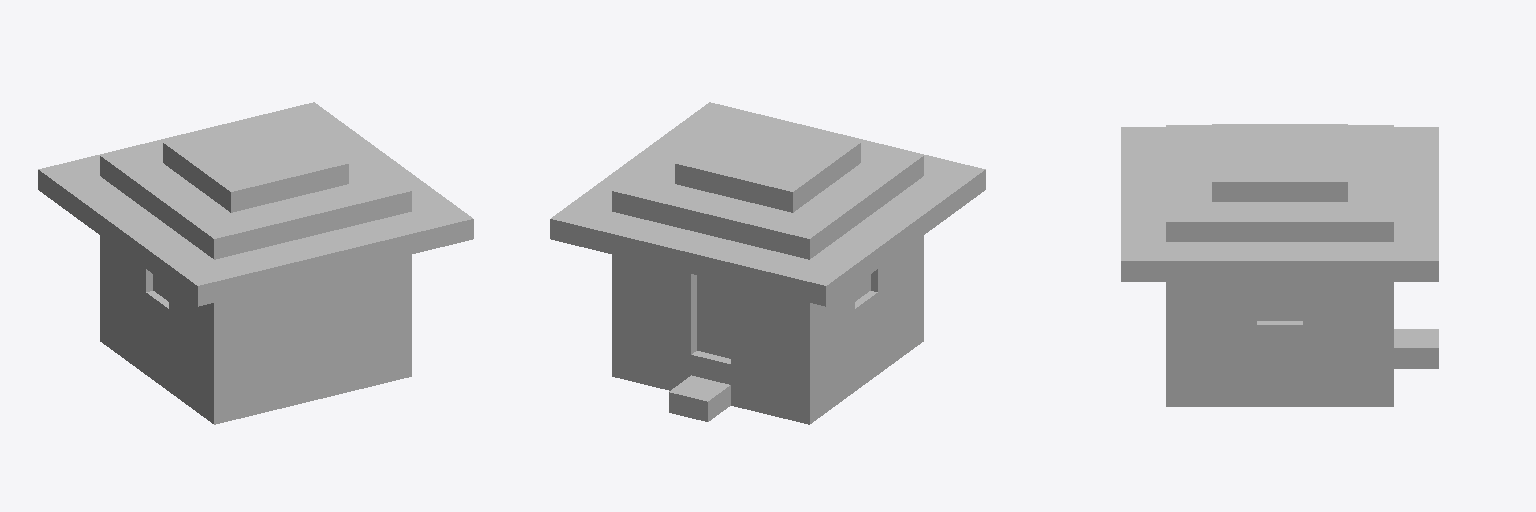
Rendered from hamlet_house_a.obj.
The picture shows the model from 3 angles: view 1: azimuth 30°, elevation 25°; view 2: azimuth 150°, elevation 25°; view 3: azimuth 270°, elevation 25°; orthographic projection.
Parts seen in each view (by area): view 1: roof, stripped_log, post, stripped, cobble; view 2: roof, stripped_log, post, door, stairs, cobble, stripped; view 3: roof, post, stripped_log, stripped, cobble, stairs, window.
Part boxes in pixels (bbox=[...]): roof: bbox=[38, 102, 473, 306]; stripped_log: bbox=[123, 252, 371, 414]; post: bbox=[100, 236, 411, 424]; stripped: bbox=[146, 291, 168, 349]; cobble: bbox=[146, 334, 168, 390]; roof: bbox=[550, 102, 985, 306]; stripped_log: bbox=[652, 252, 900, 414]; post: bbox=[612, 236, 923, 424]; door: bbox=[697, 275, 730, 358]; stairs: bbox=[669, 375, 730, 421]; cobble: bbox=[691, 334, 877, 390]; stripped: bbox=[855, 291, 877, 349]; roof: bbox=[1121, 124, 1438, 281]; post: bbox=[1166, 282, 1393, 406]; stripped_log: bbox=[1212, 282, 1347, 406]; stripped: bbox=[1257, 282, 1302, 365]; cobble: bbox=[1257, 366, 1302, 406]; stairs: bbox=[1394, 329, 1438, 368]; window: bbox=[1257, 283, 1302, 320].
Bounding box in the file's own units: 3.5 × 2.5 × 3.5.